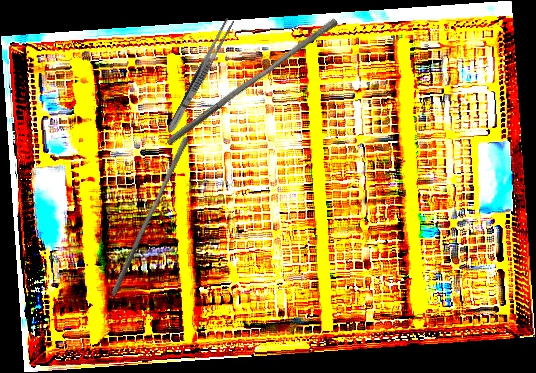Dressing Forceps: (164, 16, 236, 135)
Pusher: (165, 11, 339, 153), (109, 132, 191, 301)
